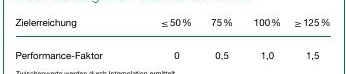table: (0, 0, 346, 74)
